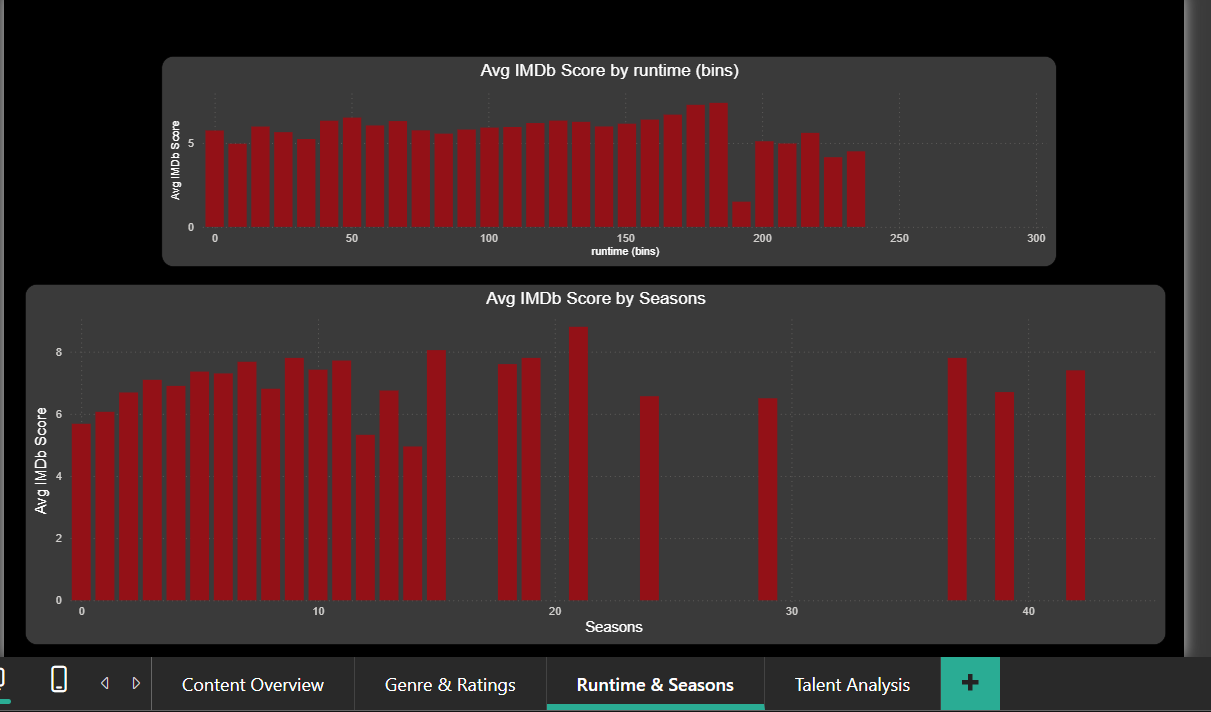

The page's visual inventory and layout, read from the dashboard file:
{"tool":"powerbi","page":{"name":"Runtime & Seasons","canvas":[1280,720],"ordinal":2},"visuals":[{"type":"columnChart","fields":{"Category":["Titles_Dim.seasons"],"Y":["Titles_Dim.Avg IMDb Score"]},"box":[22.1,314.8,1237.2,391],"z":1},{"type":"columnChart","fields":{"Category":["Titles_Dim.runtime (bins)"],"Y":["Titles_Dim.Avg IMDb Score"]},"box":[170.4,68.2,970.5,228.6],"z":3}]}

Visuals, with their boxes on the page's 1280x720 design canvas (x1, y1, x2, y2). These are canvas units, not pixel positions in the 1211x712 screenshot, which may show the page scaled, cropped or inside an application window:
columnChart - Titles_Dim.seasons x Titles_Dim.Avg IMDb Score: (22, 315, 1259, 706)
columnChart - Titles_Dim.runtime (bins) x Titles_Dim.Avg IMDb Score: (170, 68, 1141, 297)
